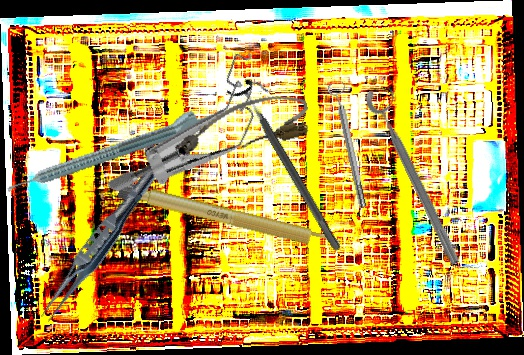Cannula: (170, 87, 314, 165)
Fixation Ring: (224, 75, 351, 258), (361, 81, 475, 268), (325, 80, 373, 210)
Handpiece: (1, 101, 217, 197)
Scalpel Handle: (117, 180, 342, 254)
Speculum: (104, 21, 283, 233)
Tissue Forceps: (34, 155, 168, 328)
